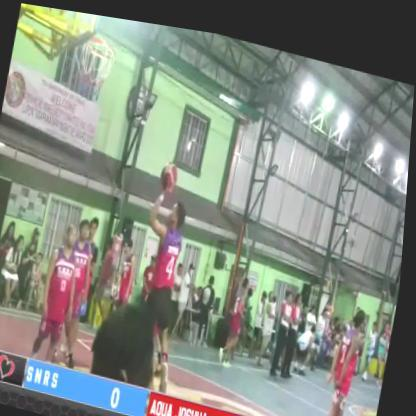basketball: (157, 148, 184, 197)
rim: (63, 20, 118, 111)
